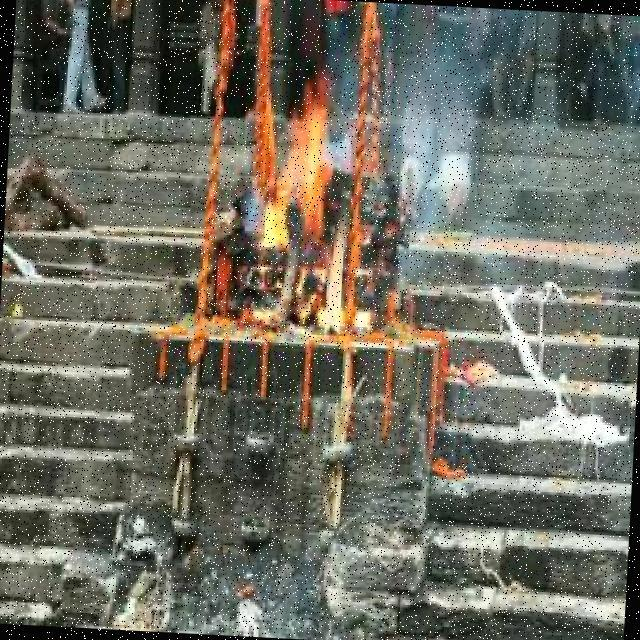Fire: (252, 77, 369, 334)
